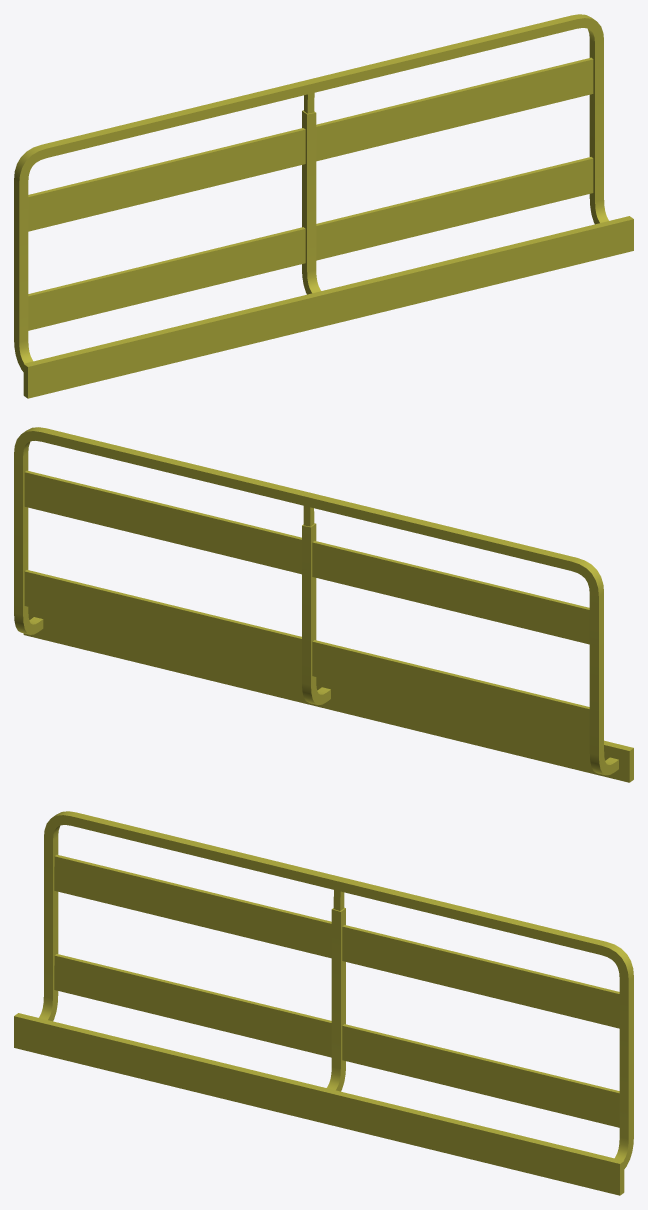
The model's file is Railings_A_4m.FBX.
The picture shows the model from 3 angles, top to bottom: view 1: azimuth 30°, elevation 25°; view 2: azimuth 150°, elevation 25°; view 3: azimuth 330°, elevation 25°; orthographic projection.
Visible parts, largest first — view 1: Railings_A_4m; view 2: Railings_A_4m; view 3: Railings_A_4m.
Boxes of the visible parts, box(x1,y1,x2,y2) form: Railings_A_4m: box(14, 14, 633, 398); Railings_A_4m: box(14, 427, 633, 782); Railings_A_4m: box(14, 811, 633, 1195).
Size of the model in its own units: 400 by 143 by 28.
